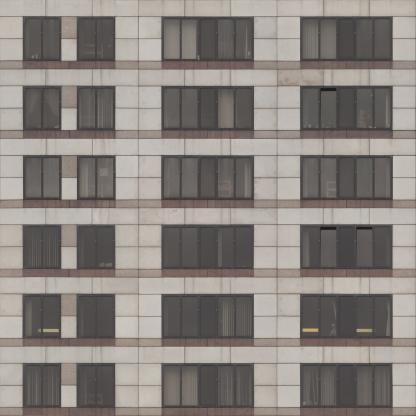Building Outline: (0, 0, 416, 415)
Facade: (0, 1, 416, 416)
Floor: (0, 0, 415, 76), (1, 82, 415, 146), (1, 290, 415, 353), (1, 152, 415, 215), (1, 222, 415, 284), (1, 359, 415, 415)
Floor Slab: (1, 353, 415, 359), (1, 77, 415, 83), (1, 146, 415, 152), (1, 215, 415, 221), (1, 284, 415, 290)
Window: (162, 17, 254, 61), (162, 86, 254, 130), (162, 156, 254, 200), (162, 225, 254, 269), (162, 364, 254, 408), (162, 295, 254, 339), (301, 17, 392, 61), (301, 364, 392, 408), (301, 225, 392, 269), (301, 156, 392, 200), (301, 86, 392, 130), (301, 295, 392, 339), (77, 364, 115, 408), (23, 364, 61, 408), (77, 17, 115, 61), (23, 17, 61, 61), (77, 86, 115, 130), (23, 86, 61, 130), (78, 156, 116, 200), (24, 156, 62, 200), (77, 225, 115, 269), (23, 225, 61, 269), (77, 294, 115, 338), (23, 294, 61, 338)
